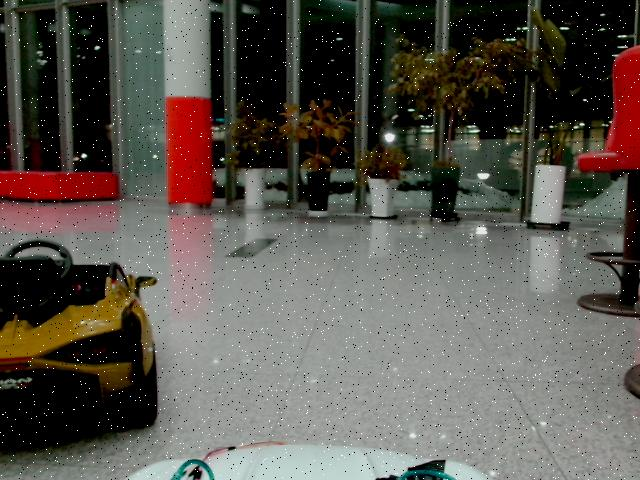car: (1, 239, 159, 454)
